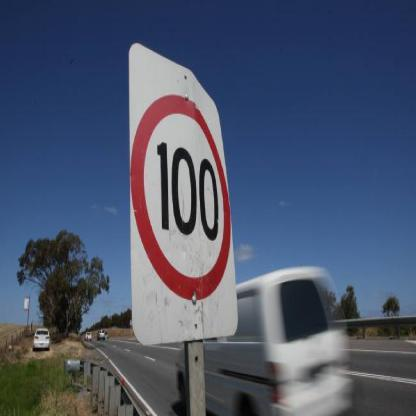Speed Limit 100: (136, 94, 227, 294)
